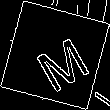M_NW: (22, 21, 88, 89)
